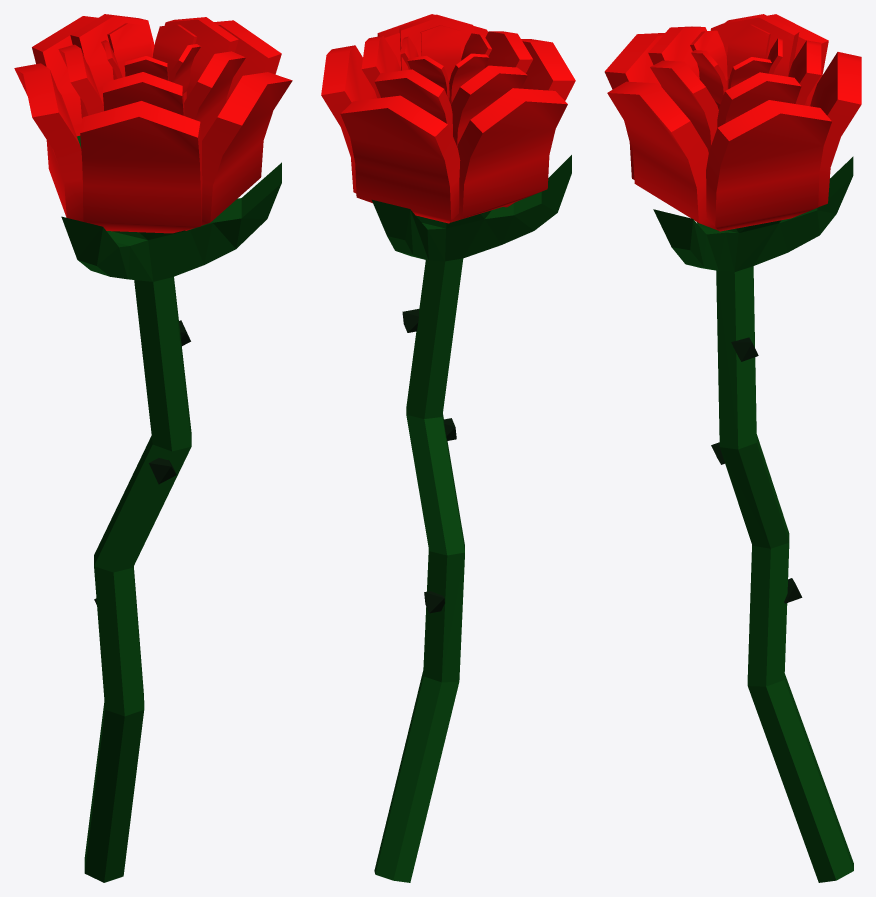
File: cravo.fbx
3 views of the same model, side by side, from view 1: azimuth 30°, elevation 25°; view 2: azimuth 150°, elevation 25°; view 3: azimuth 270°, elevation 25° (orthographic). The views are drawn at different scales.
Visible parts, largest first — view 1: Box001; view 2: Box001; view 3: Box001.
Part boxes in pixels (box(x1,y1,x2,y2)): Box001: box(14, 14, 292, 882); Box001: box(321, 14, 575, 882); Box001: box(604, 14, 861, 882).
Bounding box in the file's own units: 96.29 × 318 × 88.71.
